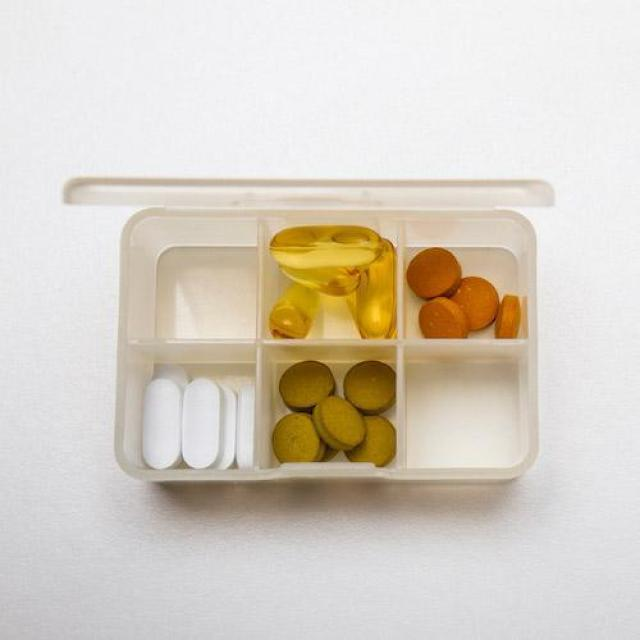B3: (261, 220, 401, 348), (265, 353, 398, 475), (122, 353, 255, 474), (408, 237, 536, 342)
